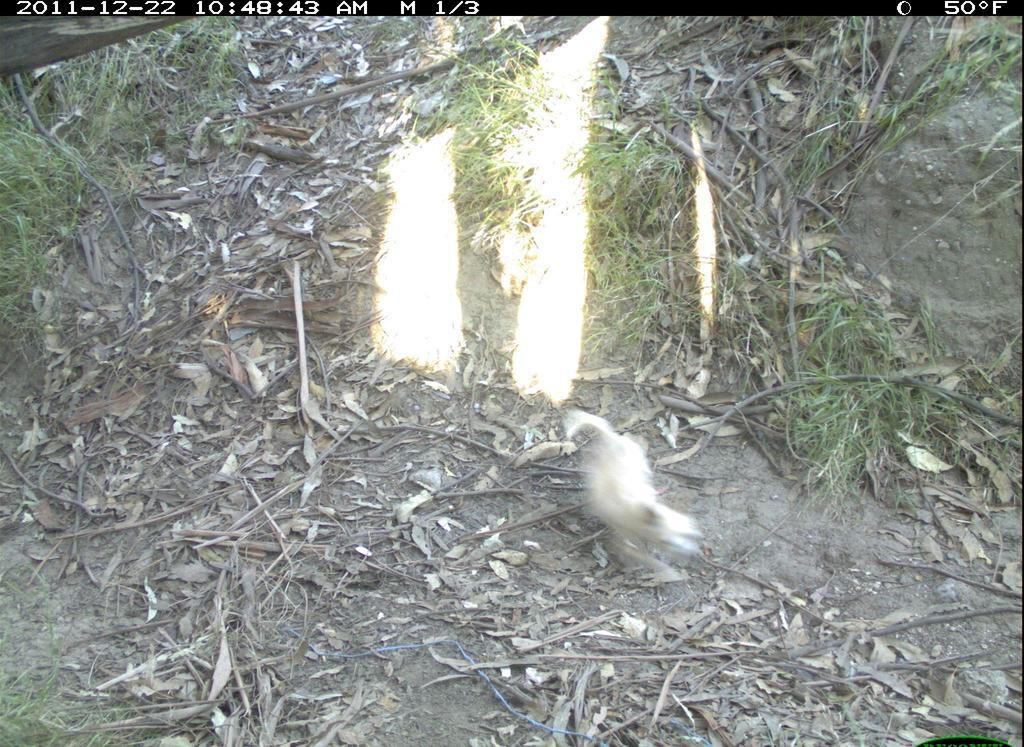dog: (557, 406, 708, 584)
